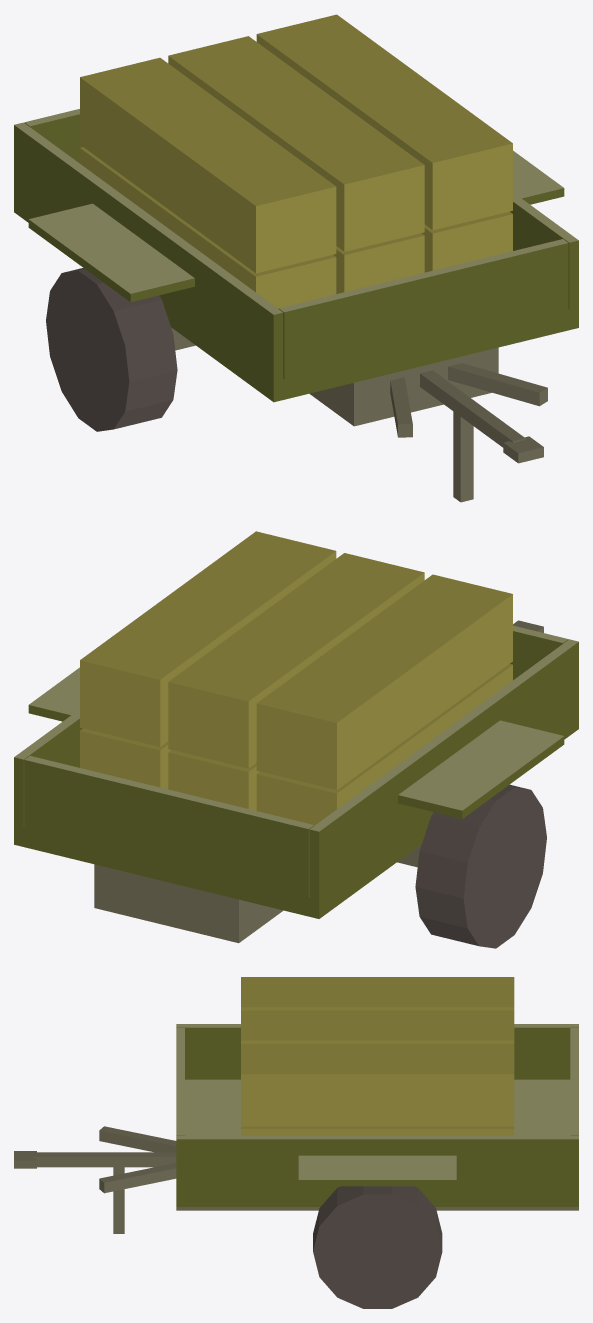
Rendered from SM_RemolqueMunicion_v1_Cohetes_LOD0.fbx.
3 renders of one model, top to bottom at view 1: azimuth 30°, elevation 25°; view 2: azimuth 150°, elevation 25°; view 3: azimuth 270°, elevation 25°, orthographic. The views are drawn at different scales.
Parts seen in each view (by area): view 1: SM_remolque_municion_v1_LOD0; view 2: SM_remolque_municion_v1_LOD0; view 3: SM_remolque_municion_v1_LOD0.
Part boxes in pixels (left/top/right/bottom): SM_remolque_municion_v1_LOD0: left=14, top=14, right=578, bottom=502; SM_remolque_municion_v1_LOD0: left=14, top=531, right=578, bottom=948; SM_remolque_municion_v1_LOD0: left=14, top=977, right=578, bottom=1308.
Bounding box in the file's own units: 2.7 × 1.58 × 3.93.
